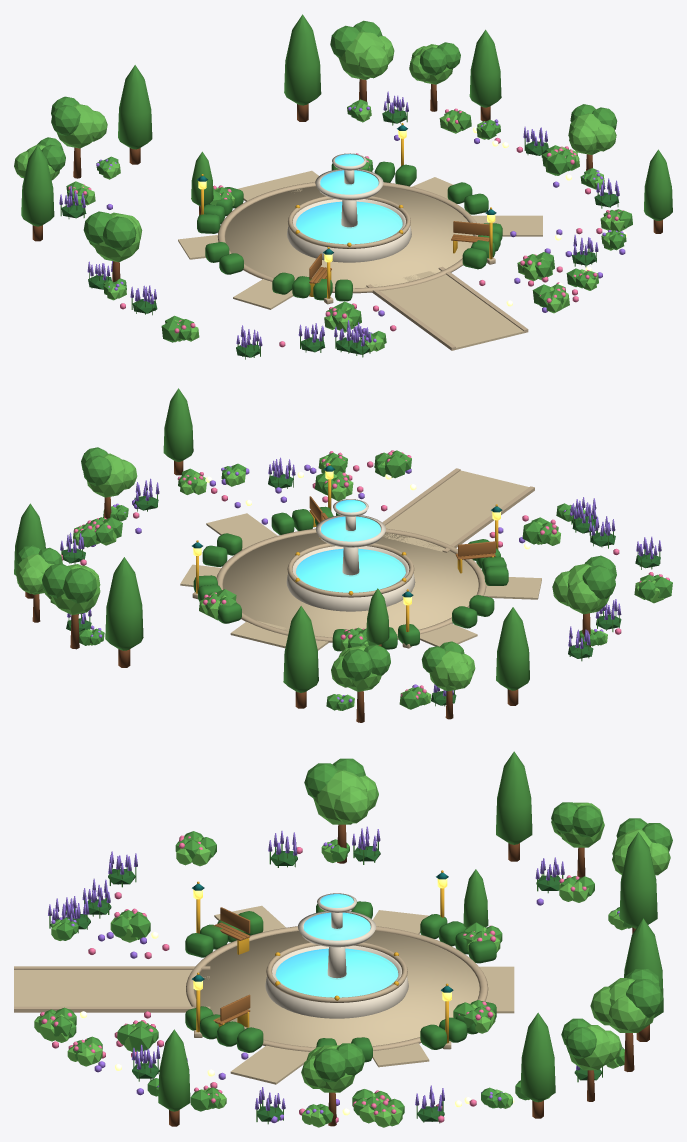
Rendered from plaza.glb.
3 renders of one model, top to bottom at view 1: azimuth 30°, elevation 25°; view 2: azimuth 150°, elevation 25°; view 3: azimuth 270°, elevation 25°, orthographic. The views are drawn at different scales.
Parts seen in each view (by area): view 1: Piata; view 2: Piata; view 3: Piata.
Part boxes in pixels (x1,y1,x2,y2): Piata: [14, 14, 672, 359]; Piata: [14, 388, 672, 722]; Piata: [14, 751, 672, 1127].
Size of the model in its own units: 14.45 by 2.87 by 13.77.
